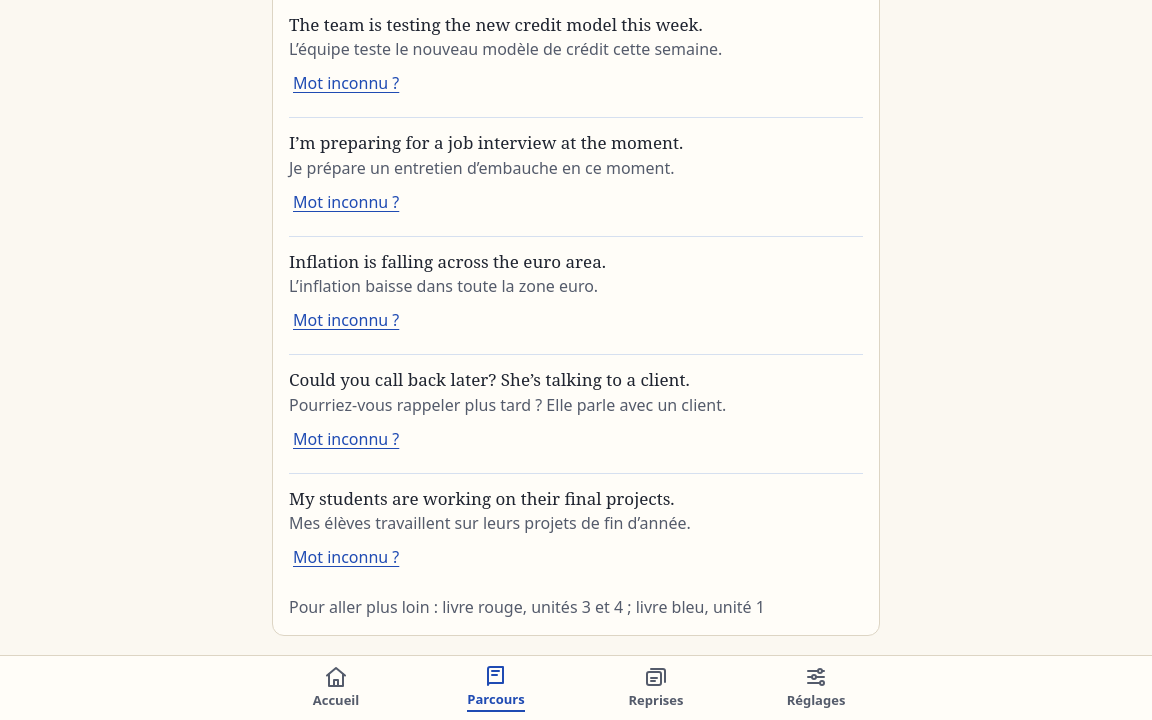
meaning of an unknown word, proposed by the AI (D-095) › treats an empty meaning as a failure, never as a proposal
(page scrolled)
Click the 3rd button "Mot inconnu ?".
click(346, 320)  # box [289,298,403,342]
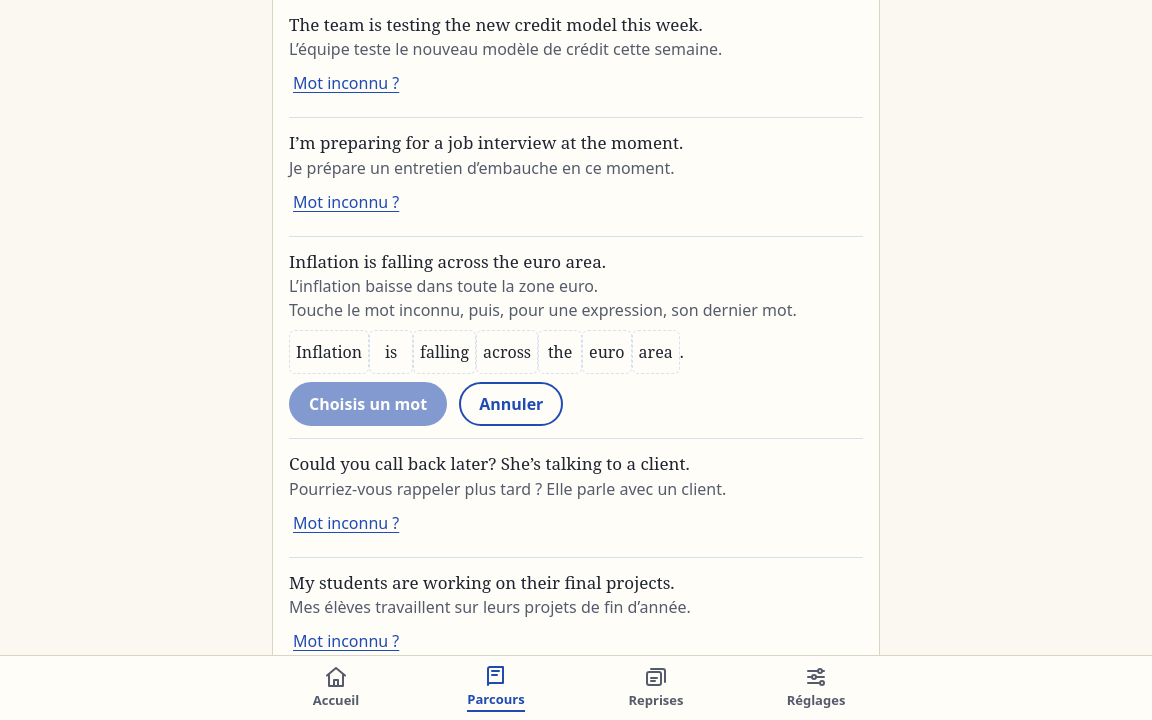
Click the button "across".
click(507, 352)  # box [476,330,538,374]
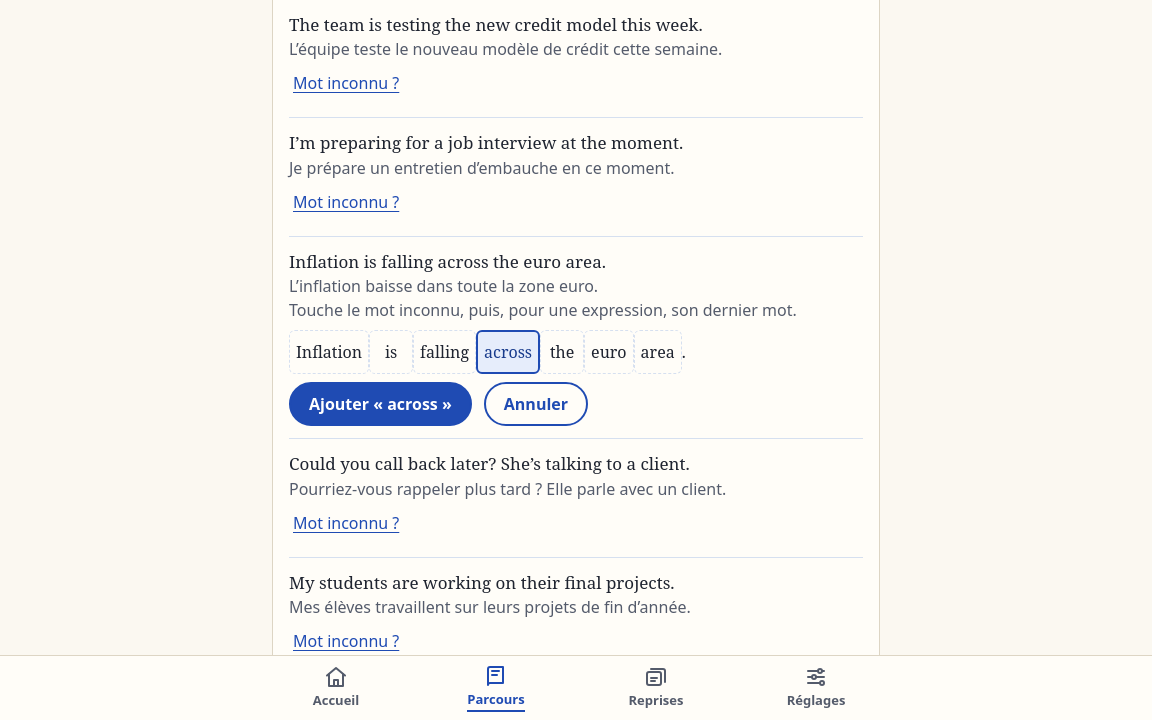
Click the button "Ajouter « across »".
click(380, 404)  # box [289,382,472,426]
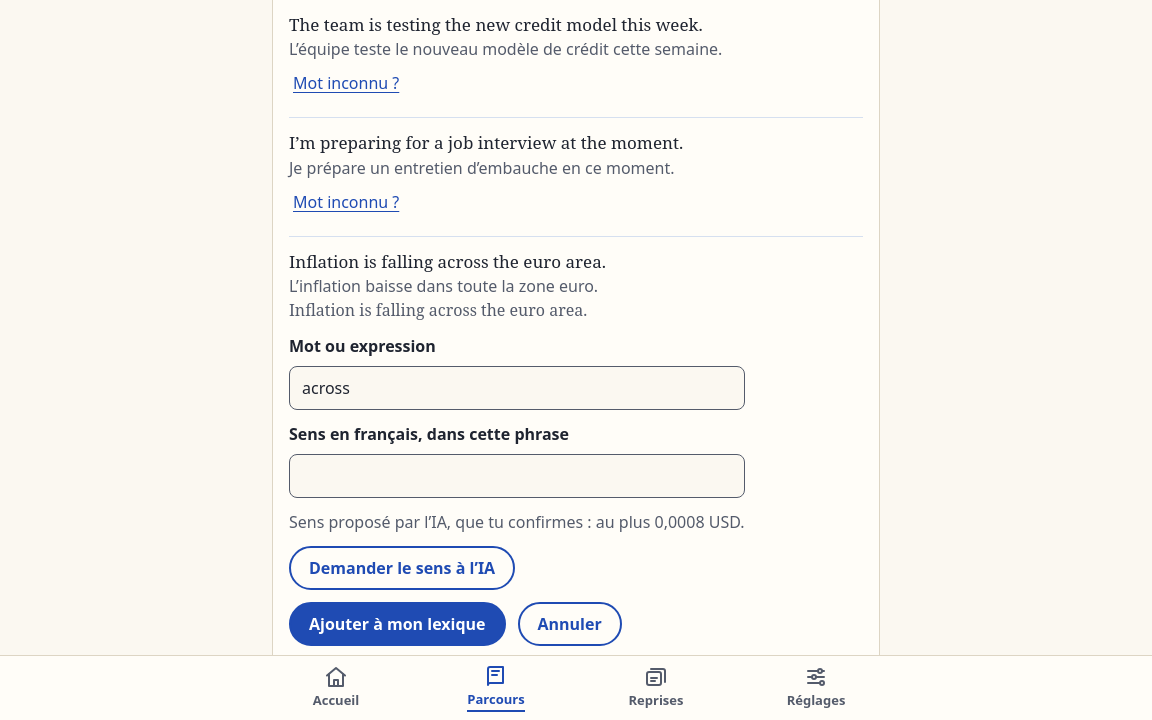
Expected: the field labelled "Sens en français, dans cette phrase" is enabled, [289,454,744,498]
Click the button "Demander le sens à l’IA".
click(402, 568)  # box [289,546,515,590]
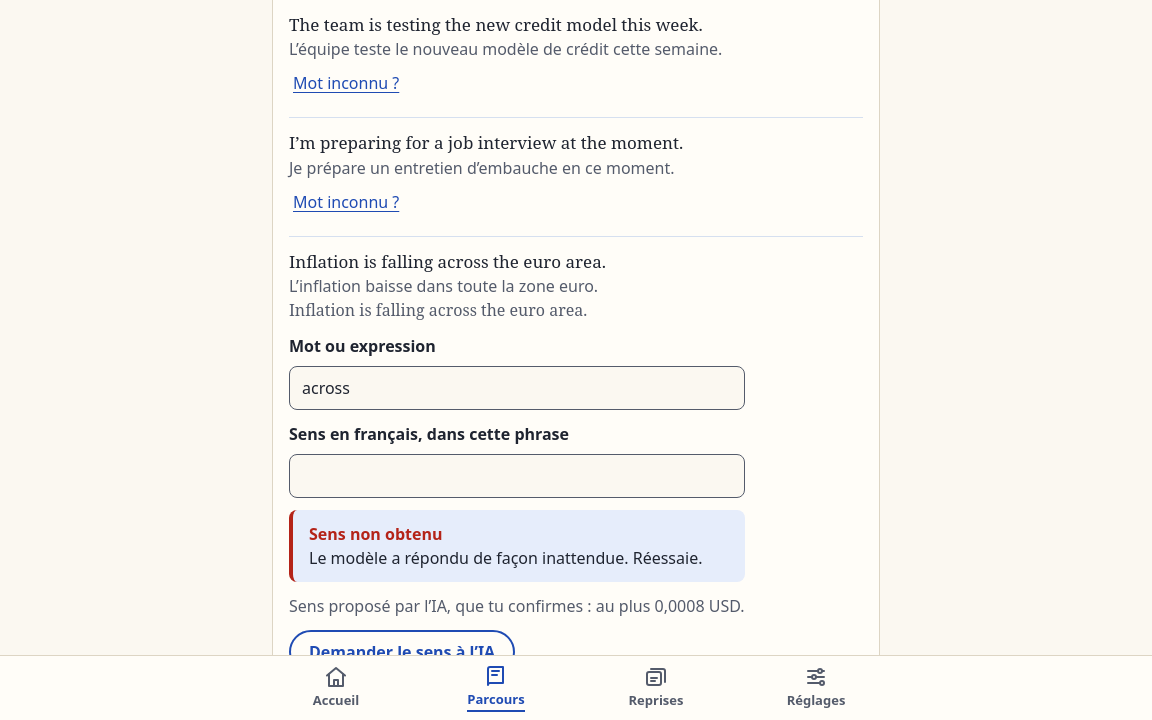
Expected: the text "Sens non obtenu" is shown, [309,523,442,545]
